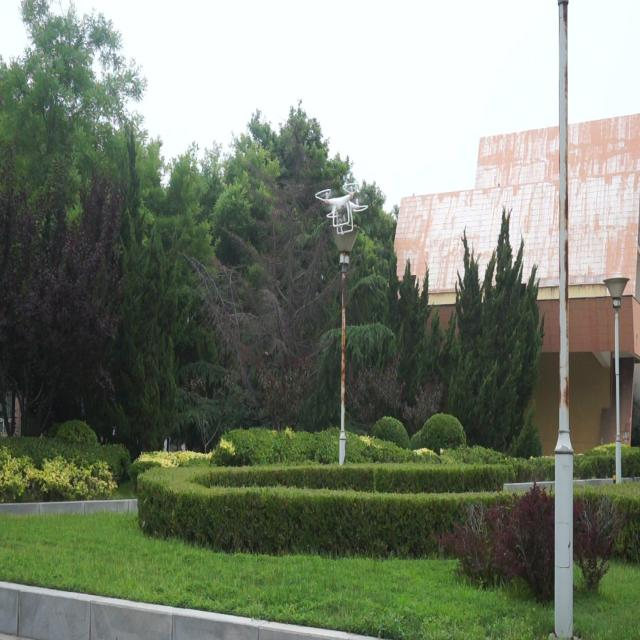drone: (312, 181, 370, 236)
